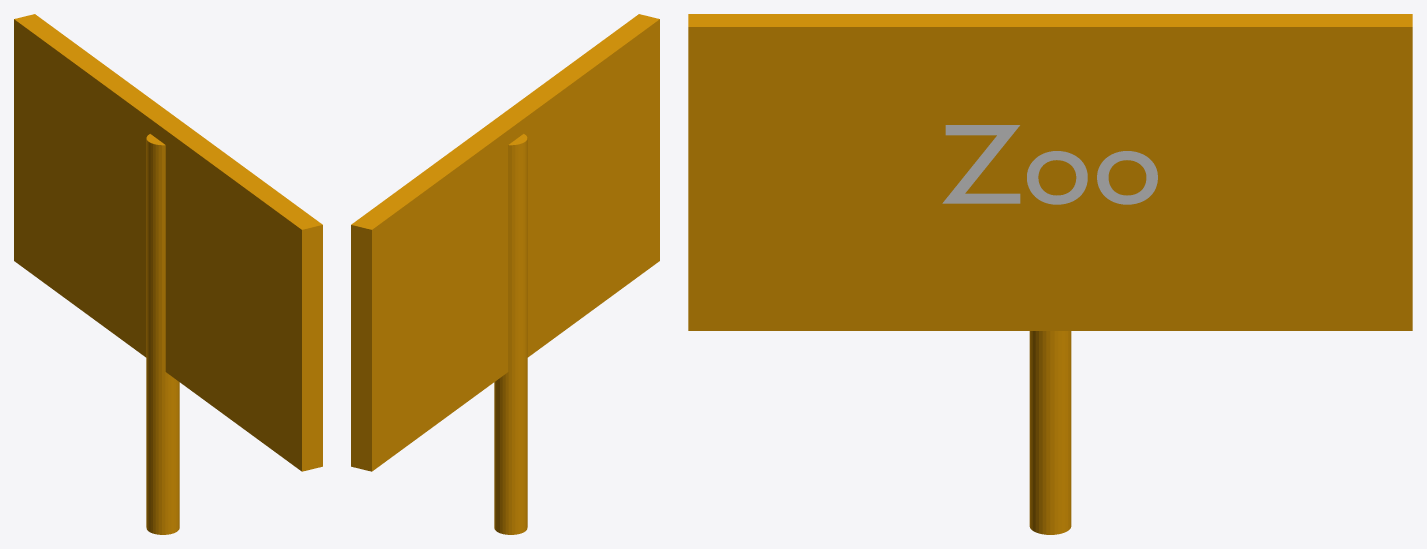
File: Kyltti17.fbx
The picture shows the model from 3 angles, left to right: view 1: azimuth 30°, elevation 25°; view 2: azimuth 150°, elevation 25°; view 3: azimuth 270°, elevation 25°; orthographic projection. The views are drawn at different scales.
Visible parts, largest first — view 1: Kyltti17, Cylinder.016; view 2: Kyltti17, Cylinder.016; view 3: Kyltti17, Cylinder.016, Text.018.
Boxes of the visible parts, left/top/right/bottom form: Kyltti17: left=14, top=14, right=322, bottom=471; Cylinder.016: left=146, top=134, right=179, bottom=534; Kyltti17: left=351, top=14, right=659, bottom=471; Cylinder.016: left=494, top=134, right=527, bottom=534; Kyltti17: left=688, top=14, right=1412, bottom=330; Cylinder.016: left=1029, top=331, right=1071, bottom=534; Text.018: left=942, top=125, right=1157, bottom=204.
Size of the model in its own units: 36.68 by 442 by 570.
